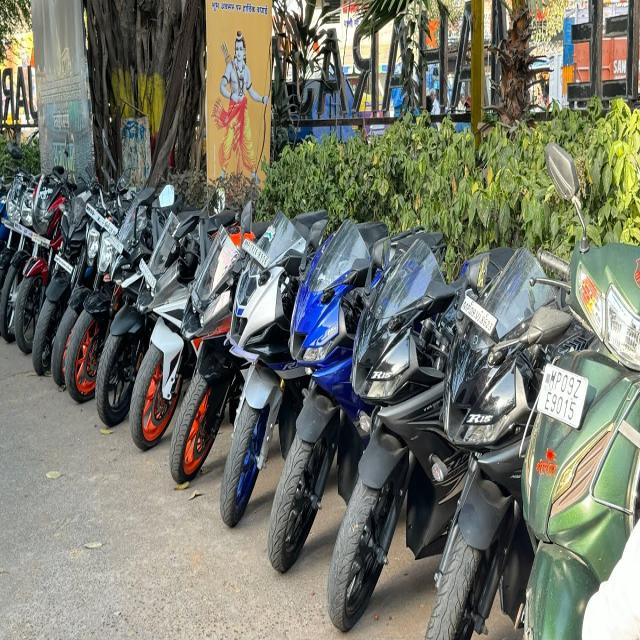plate: (535, 359, 589, 434), (457, 290, 497, 339), (239, 233, 271, 270), (136, 254, 157, 292), (52, 252, 74, 274), (108, 234, 124, 255)
